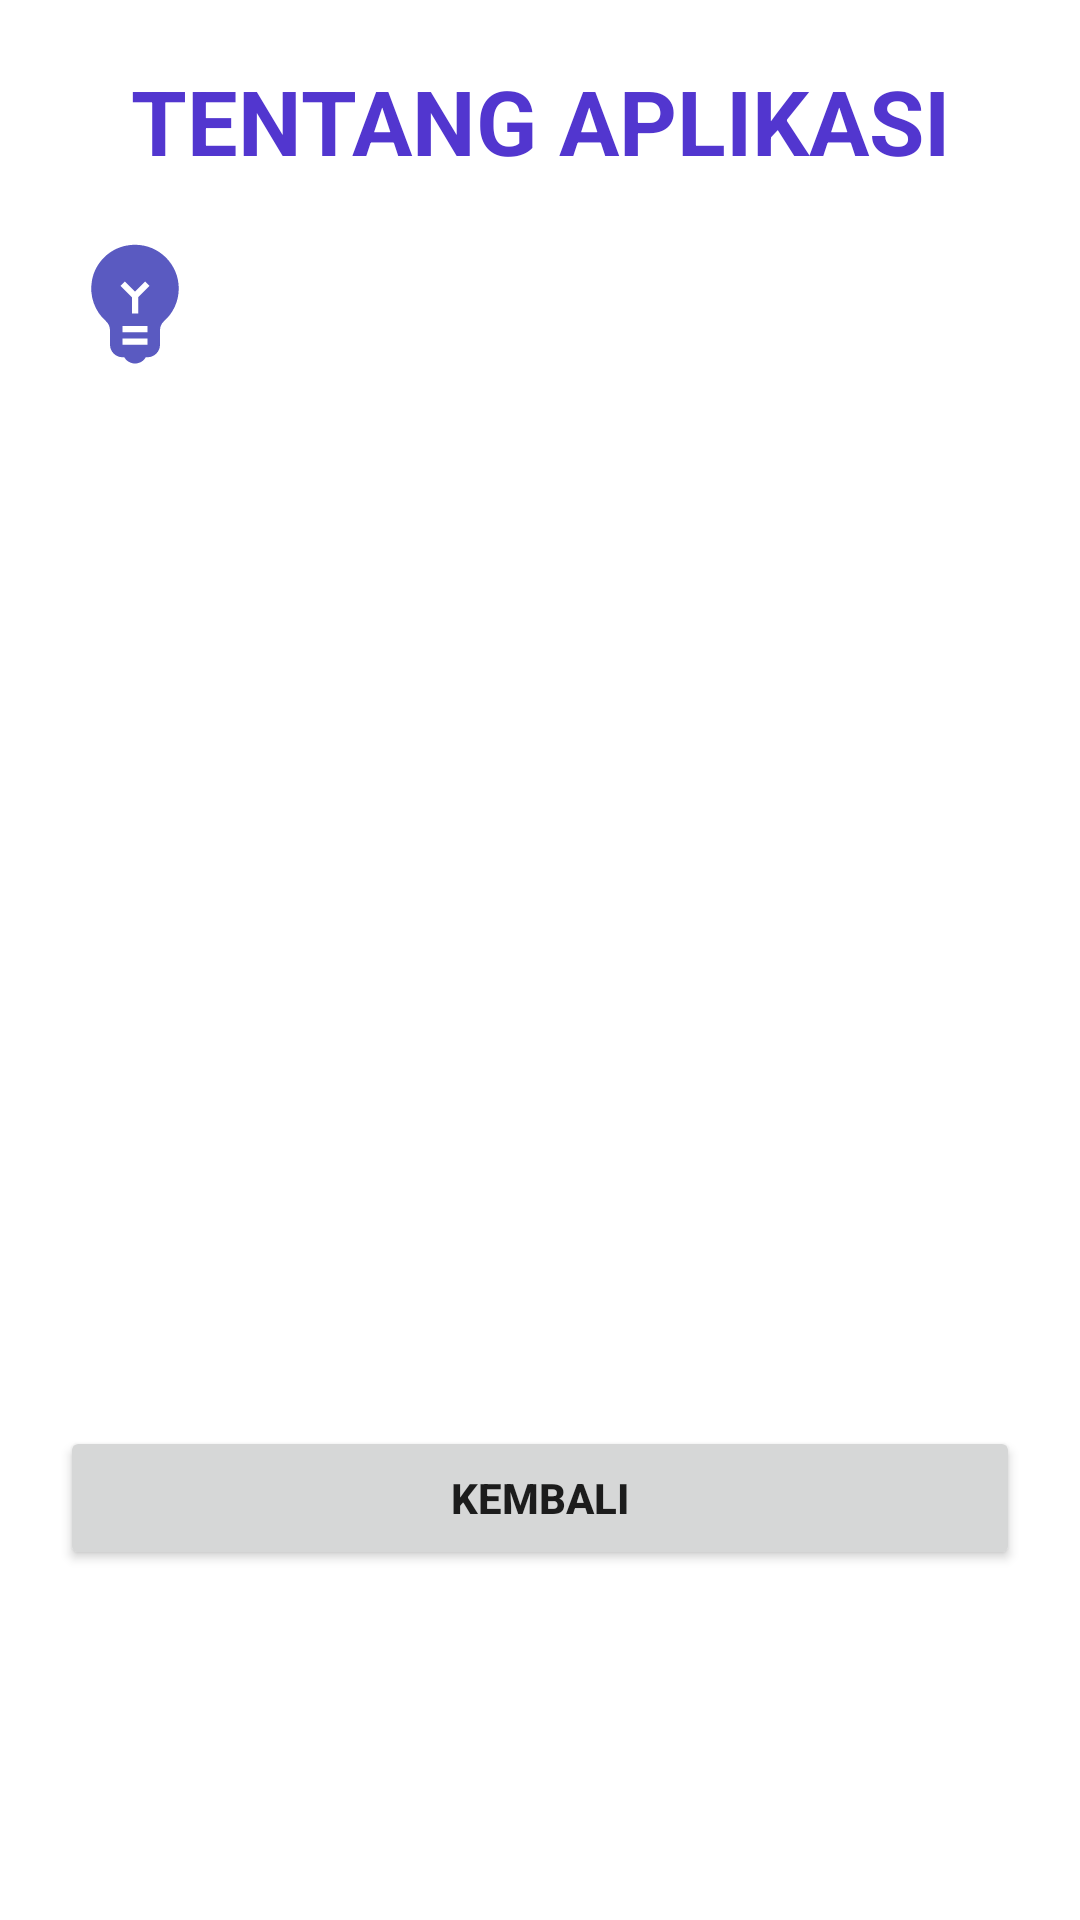

Screen size 1080w x 1920h. Icon name, then its box in pixels as (x1, y1, x2, y2):
emoji objects: (91, 244, 179, 364)
